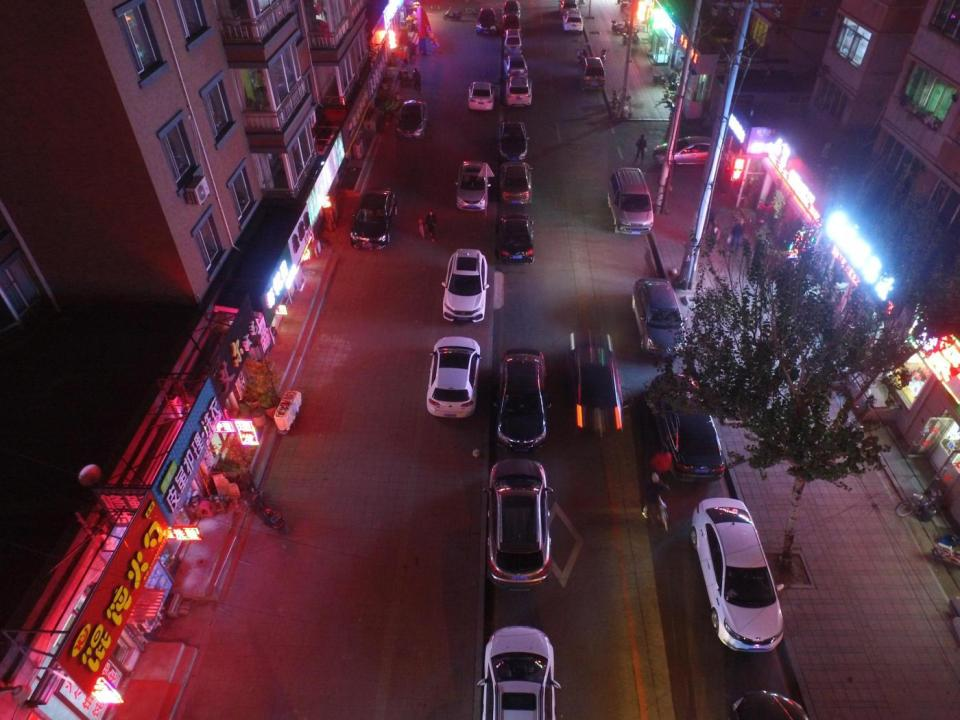car: (686, 498, 784, 651), (486, 458, 554, 590), (651, 373, 725, 481), (484, 625, 556, 718), (567, 330, 622, 432), (496, 348, 547, 452), (427, 335, 480, 419), (634, 278, 690, 356), (442, 248, 489, 324), (350, 187, 396, 251), (653, 136, 721, 165), (497, 214, 534, 264), (499, 162, 533, 206), (458, 161, 488, 209), (496, 120, 527, 162), (398, 101, 430, 138), (505, 76, 532, 106), (468, 82, 494, 112), (476, 8, 498, 36), (503, 53, 527, 77), (563, 12, 584, 33), (501, 0, 521, 21), (503, 14, 521, 37), (557, 0, 578, 16)
van: (605, 166, 654, 232), (580, 57, 606, 90), (504, 29, 522, 55)
